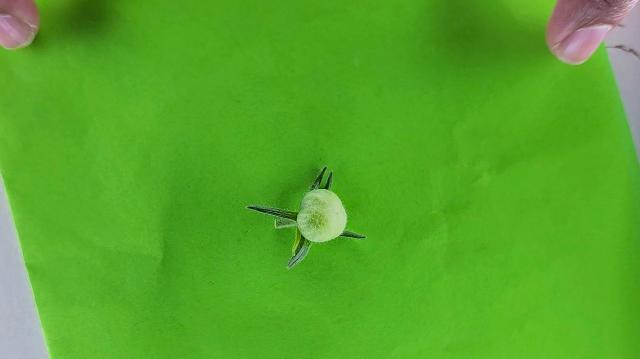Fruit Maturation: (295, 189, 348, 243)
